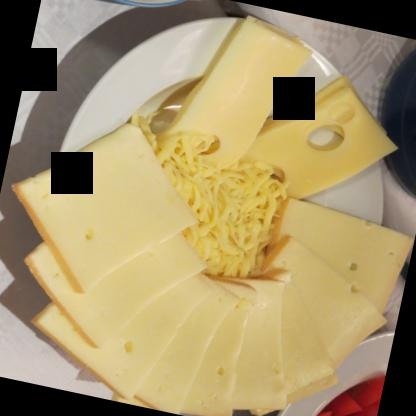cheese: (0, 105, 212, 312), (8, 196, 210, 368), (21, 236, 212, 410), (163, 10, 316, 178), (242, 66, 408, 216), (248, 235, 396, 370), (266, 197, 415, 318), (129, 260, 243, 415), (230, 268, 352, 412), (220, 275, 315, 415), (172, 273, 263, 415)
